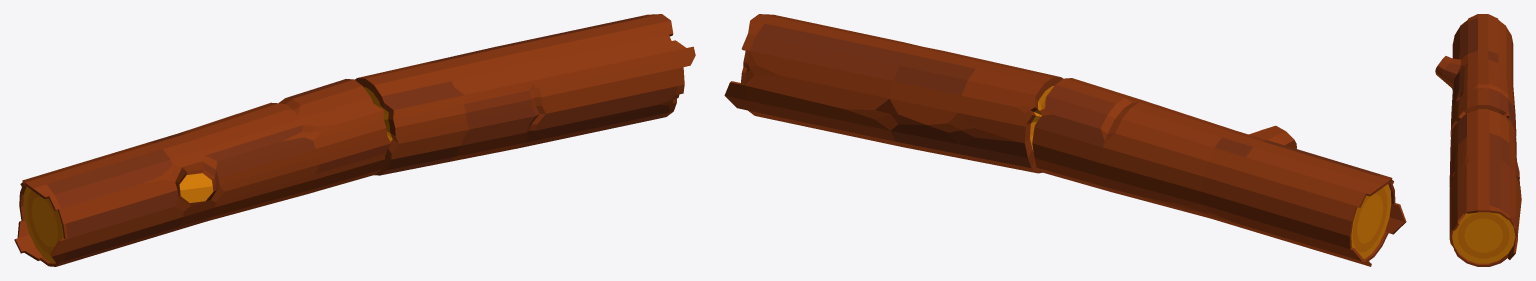
File: Broken log_6.fbx
The picture shows the model from 3 angles, left to right: view 1: azimuth 30°, elevation 25°; view 2: azimuth 150°, elevation 25°; view 3: azimuth 270°, elevation 25°; orthographic projection. The views are drawn at different scales.
Visible parts, largest first — view 1: Circle.010, Circle.007; view 2: Circle.010, Circle.007; view 3: Circle.007, Circle.010.
Part boxes in pixels (x1,y1,x2,y2): Circle.010: (14, 79, 391, 266); Circle.007: (354, 14, 695, 175); Circle.010: (1032, 78, 1406, 266); Circle.007: (724, 14, 1063, 173); Circle.007: (1449, 110, 1521, 266); Circle.010: (1435, 14, 1516, 136).
Size of the model in its own units: 221 by 33.99 by 38.98.
